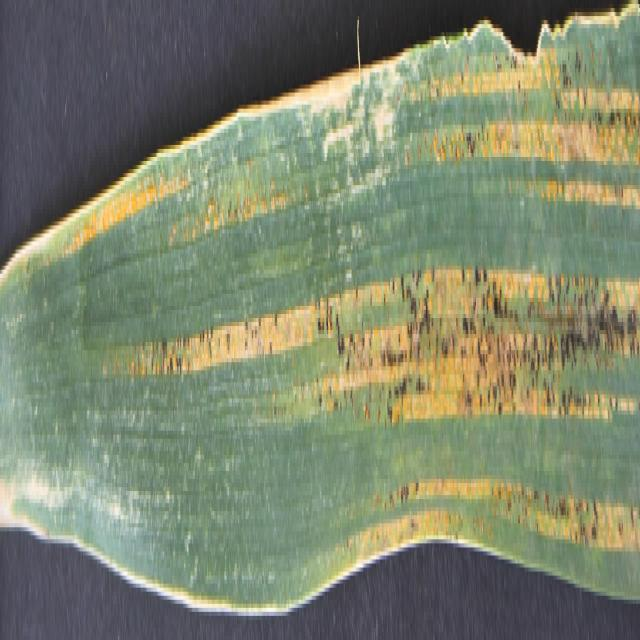leaf rust: (41, 49, 638, 564)
